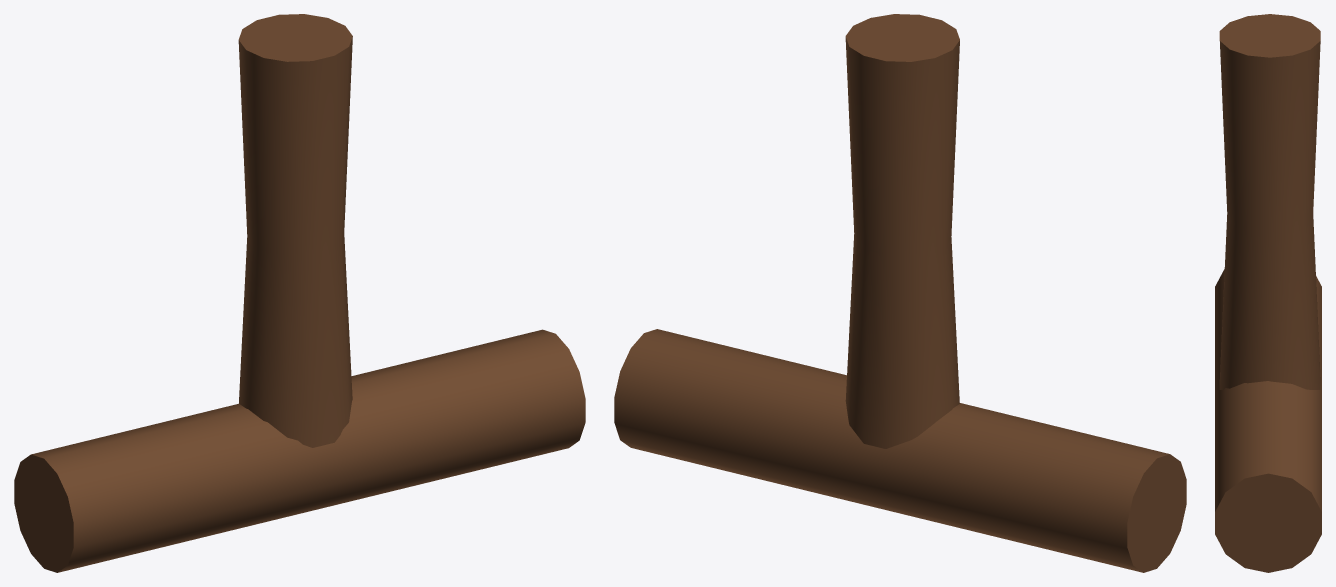
Rendered from Perch.fbx.
3 views of the same model, side by side, from view 1: azimuth 30°, elevation 25°; view 2: azimuth 150°, elevation 25°; view 3: azimuth 270°, elevation 25° (orthographic). The views are drawn at different scales.
Parts seen in each view (by area): view 1: pCylinder15; view 2: pCylinder15; view 3: pCylinder15.
Part boxes in pixels (x1,y1,x2,y2): pCylinder15: [14, 14, 585, 572]; pCylinder15: [614, 14, 1186, 572]; pCylinder15: [1215, 14, 1321, 572].
Bounding box in the file's own units: 774 × 677 × 155.
